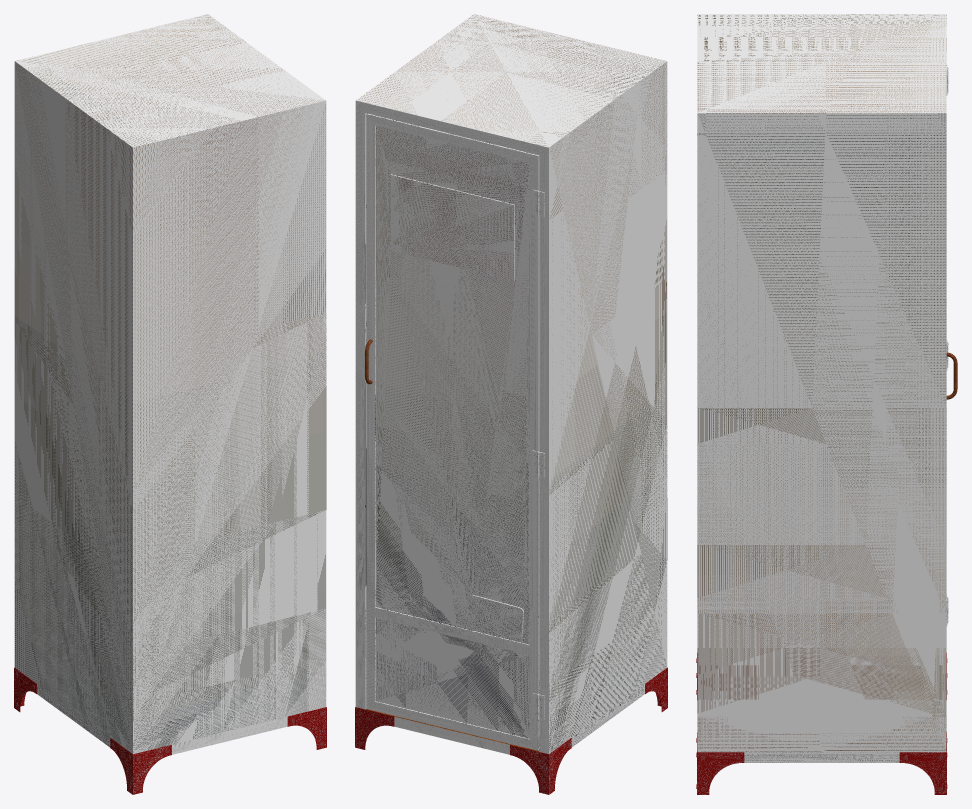
3 renders of one model, left to right at view 1: azimuth 30°, elevation 25°; view 2: azimuth 150°, elevation 25°; view 3: azimuth 270°, elevation 25°, orthographic. The views are drawn at different scales.
Parts seen in each view (by area): view 1: mesh13_mesh13-geometry, mesh7_mesh7-geometry, mesh3_mesh3-geometry; view 2: mesh13_mesh13-geometry, mesh3_mesh3-geometry, mesh7_mesh7-geometry; view 3: mesh13_mesh13-geometry, mesh3_mesh3-geometry, mesh7_mesh7-geometry.
Part boxes in pixels (x1,y1,x2,y2): mesh13_mesh13-geometry: (14,14,326,754); mesh7_mesh7-geometry: (14,671,326,794); mesh3_mesh3-geometry: (14,667,326,794); mesh13_mesh13-geometry: (355,14,667,754); mesh3_mesh3-geometry: (355,692,667,794); mesh7_mesh7-geometry: (355,667,667,794); mesh13_mesh13-geometry: (697,14,946,762); mesh3_mesh3-geometry: (696,653,947,794); mesh7_mesh7-geometry: (696,653,947,794).
Bounding box in the file's own units: 0.2852 × 0.9055 × 0.3143.
